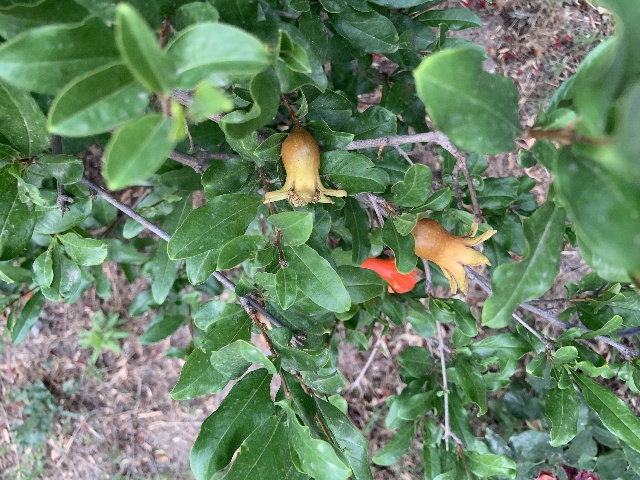early-fruit: (262, 127, 346, 208), (411, 217, 496, 295)
flower: (360, 257, 419, 293)
